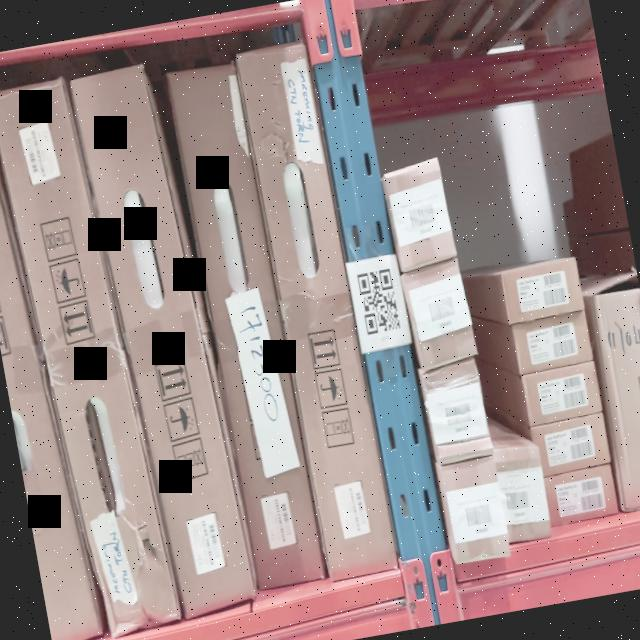box: (71, 64, 256, 618), (0, 86, 179, 637), (236, 42, 398, 580), (167, 62, 324, 588), (386, 160, 458, 273), (405, 261, 477, 371), (441, 457, 510, 563), (420, 364, 490, 464), (502, 260, 582, 318), (522, 362, 600, 418), (516, 318, 591, 371)
